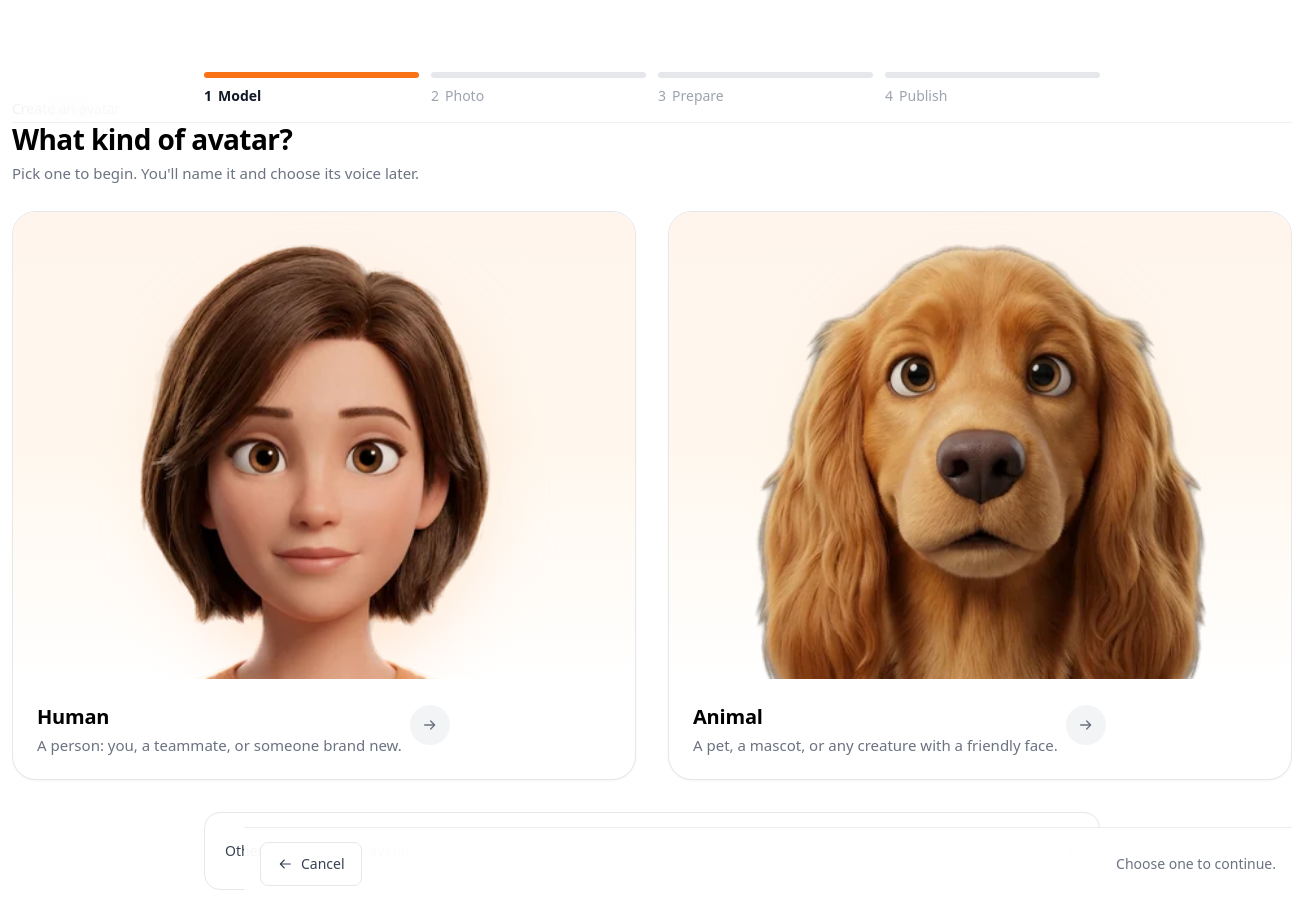
step 1: the model › choosing one goes on to the photo, in the URL, the focus on the new heading
Expected: the heading "What kind of avatar?" is shown, [12, 120, 292, 158]
Click the button "Animal" at (980, 496), box [668, 211, 1292, 780]
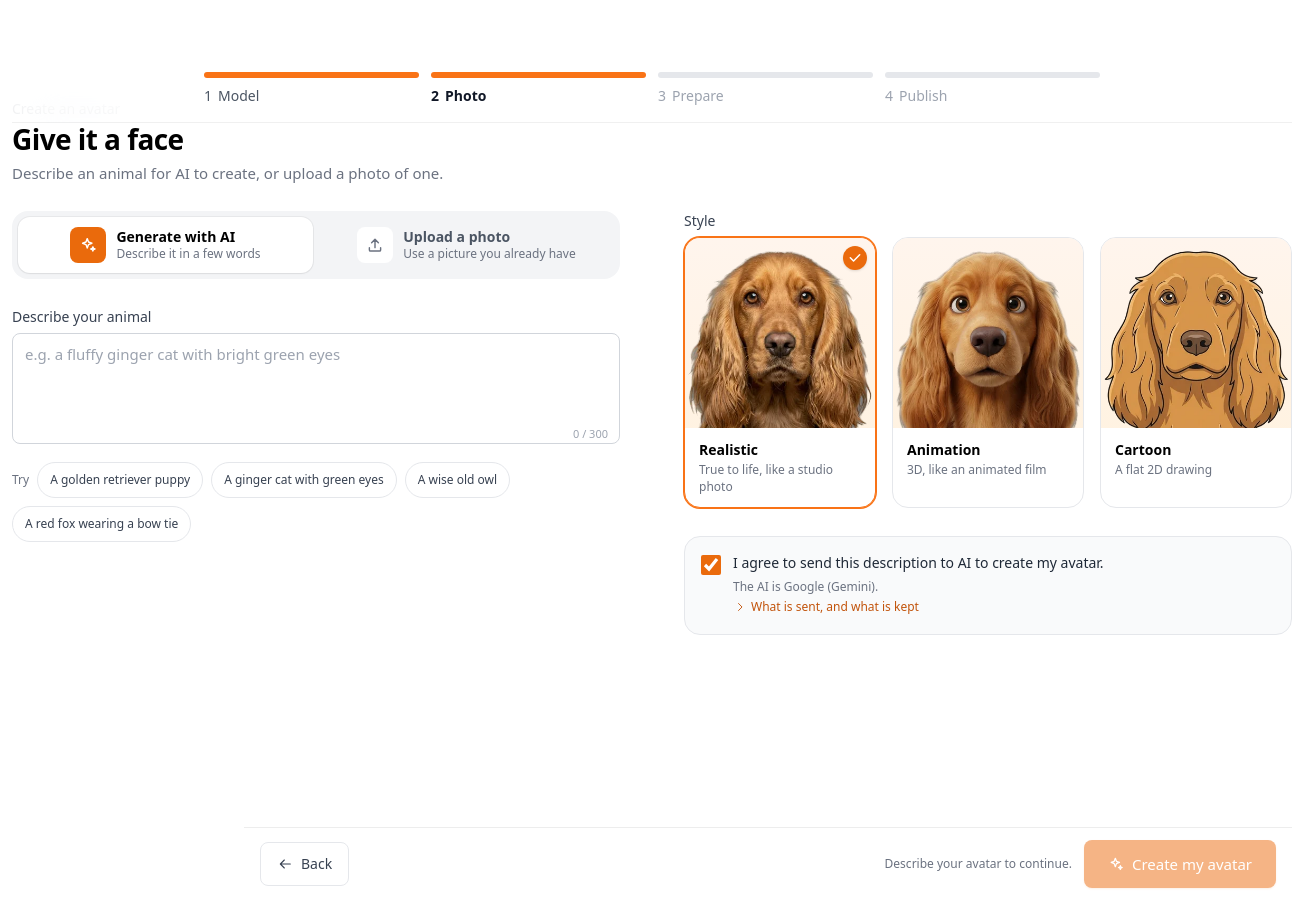
Expected: the heading "Give it a face" is shown, [12, 120, 184, 158]
Expected: the text "Describe an animal for AI to create, or upload a photo of one." is shown, [12, 163, 443, 183]
